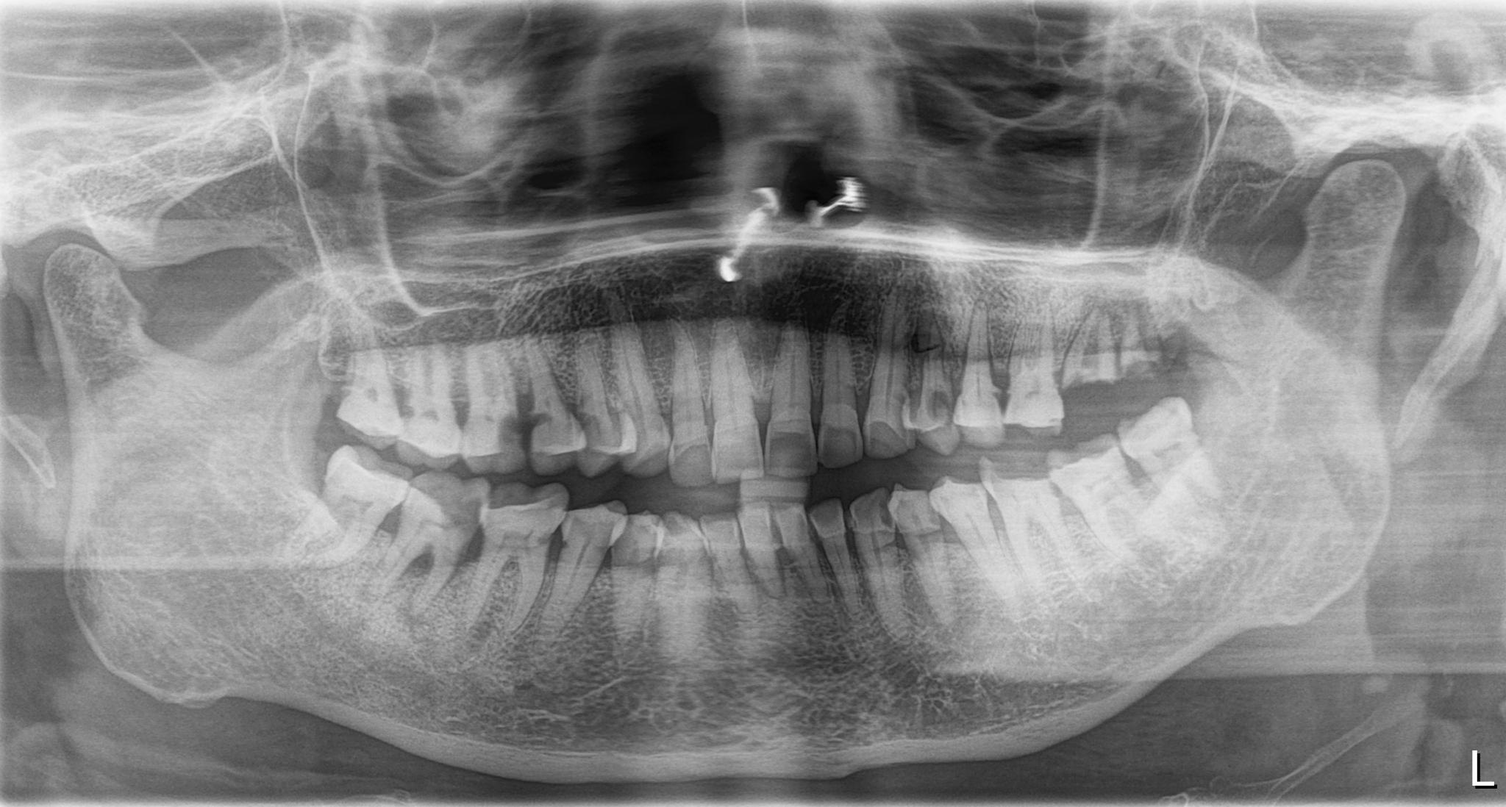Dental Caries: (450, 500, 489, 564), (502, 401, 558, 445), (904, 391, 963, 430)
Impacted Third Molar: (305, 456, 402, 557), (1127, 415, 1224, 512)
Retained Root: (1110, 303, 1168, 402), (1055, 309, 1108, 412)
